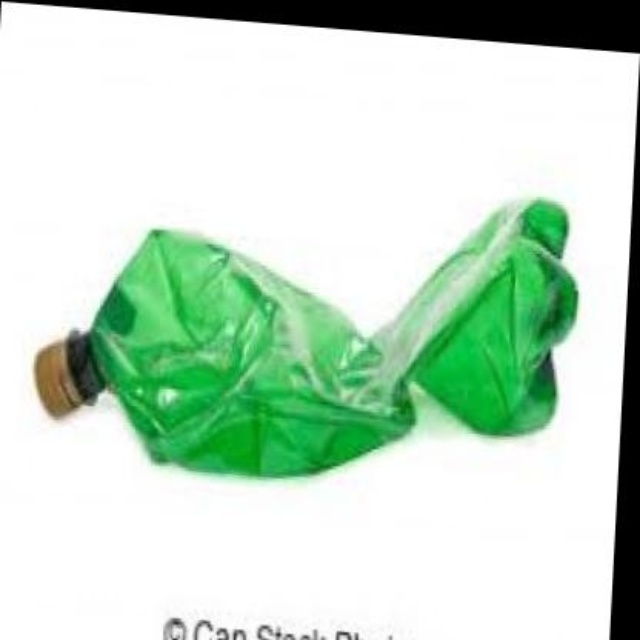trash: (35, 198, 577, 475)
